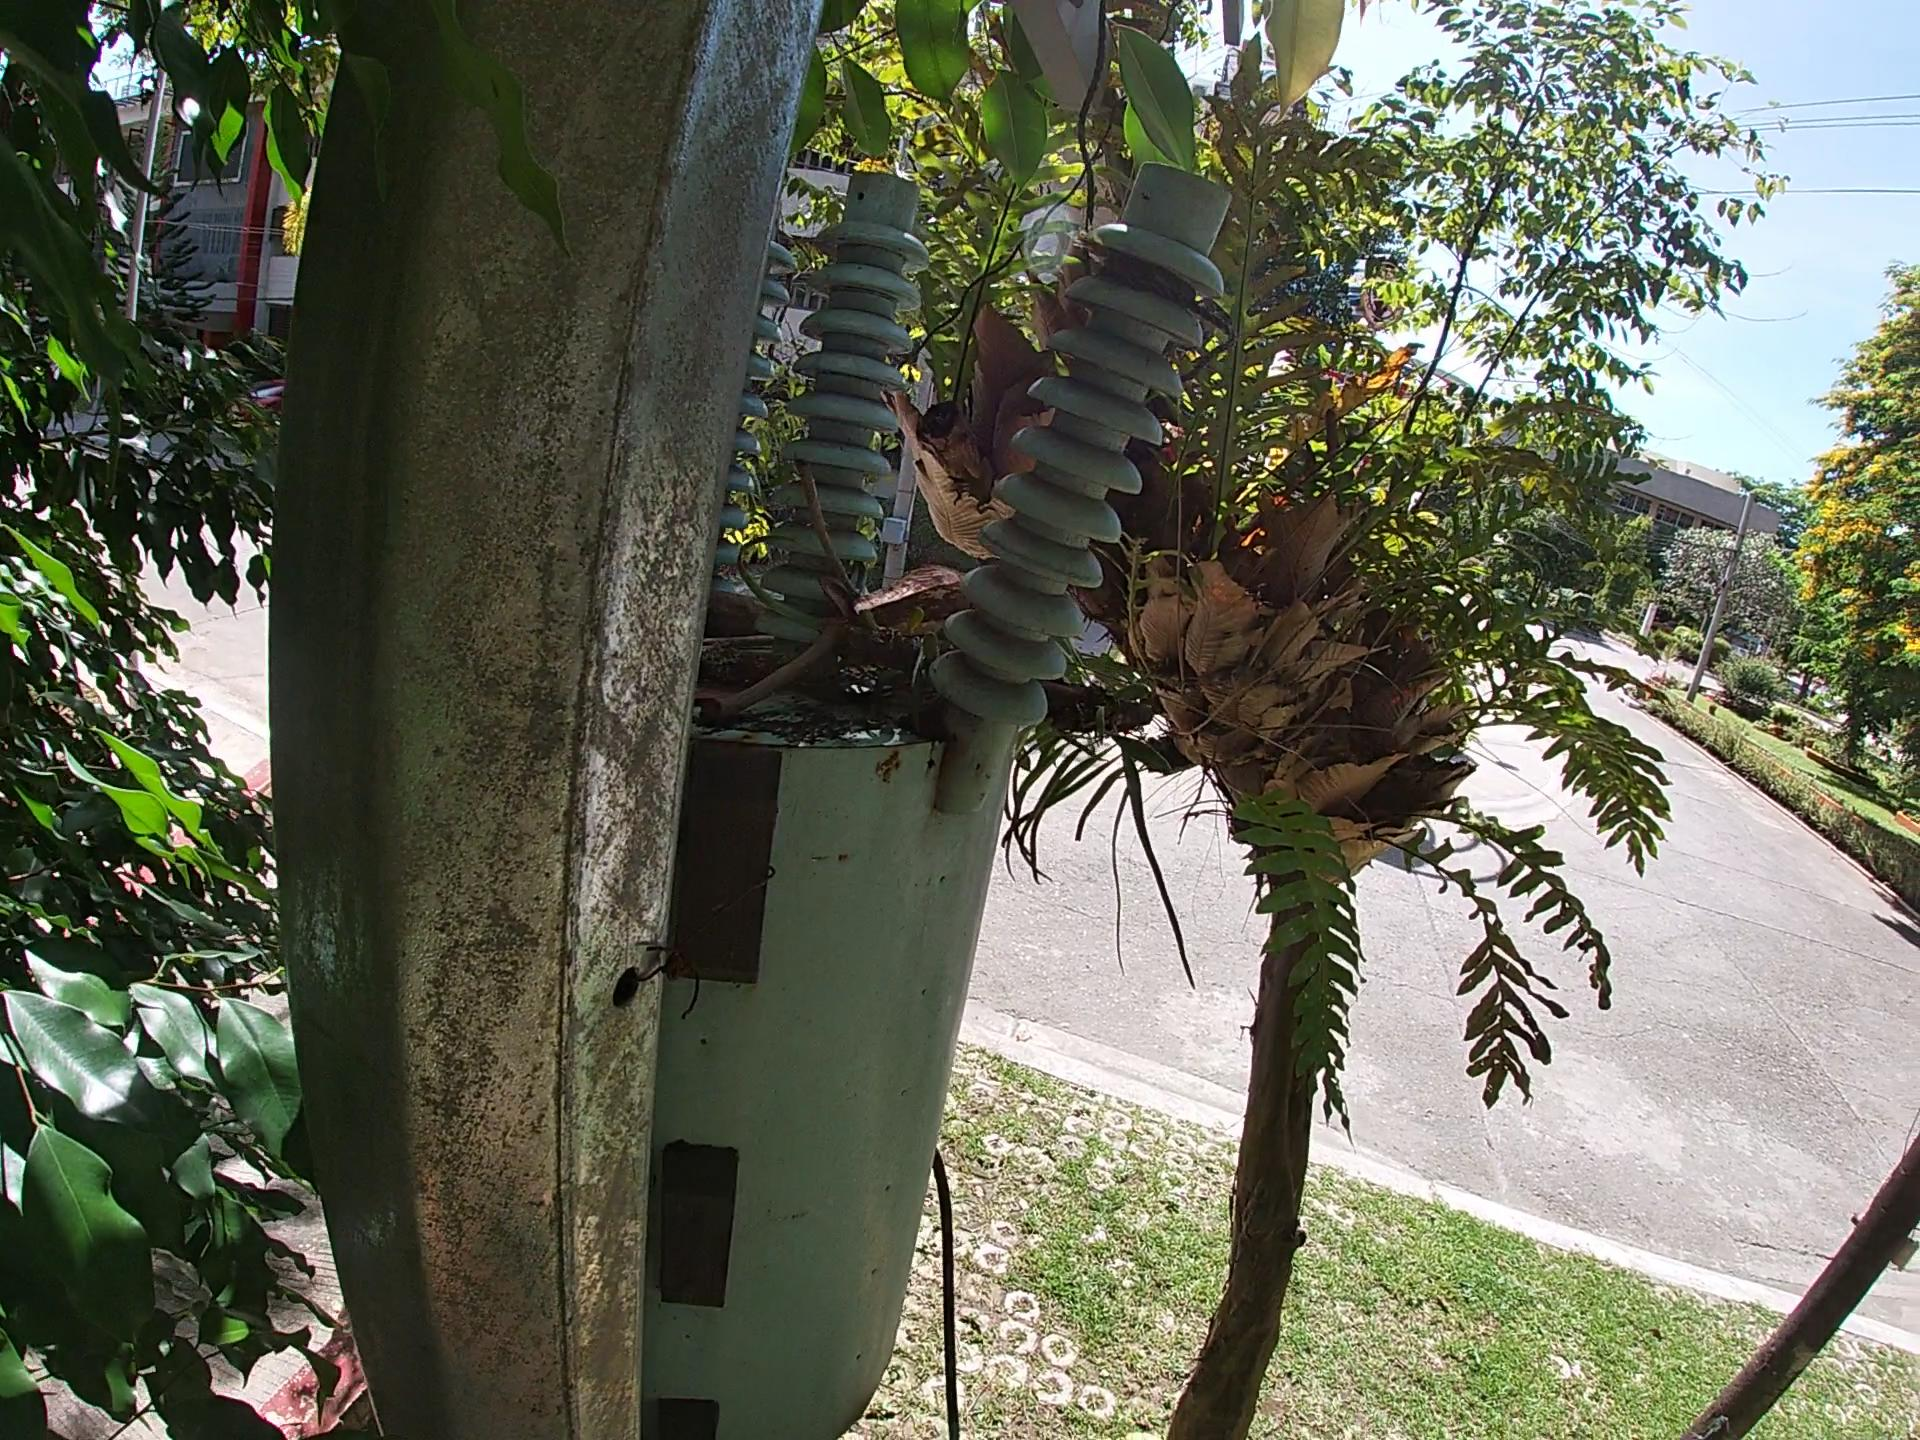branch with leaves: (714, 514, 1169, 809)
leaf: (617, 584, 708, 709)
mahogany fruit: (736, 526, 869, 653)
tree branch: (671, 620, 853, 743)
